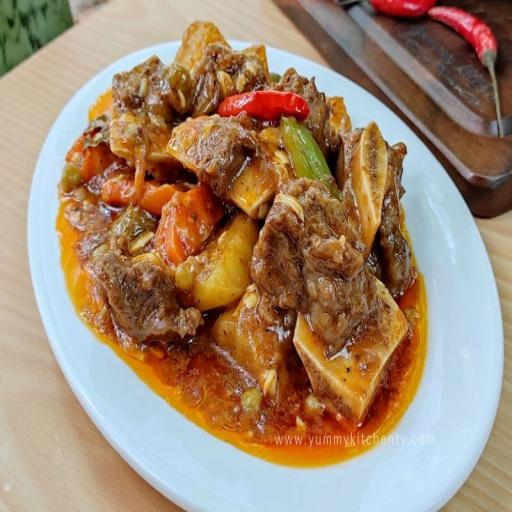pork caldereta: (69, 32, 432, 462)
